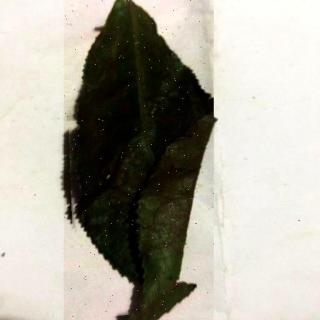Red Leaf Spot: (65, 1, 215, 320)
